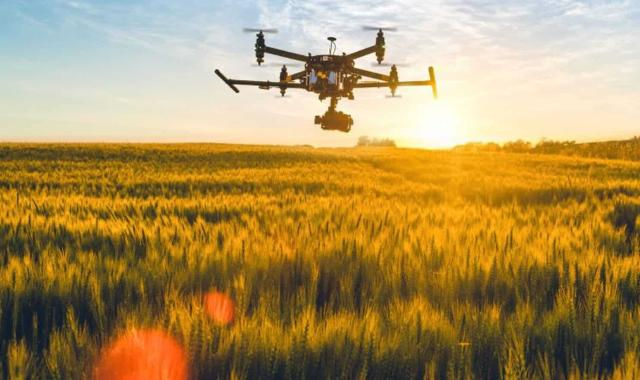drone: (212, 24, 442, 136)
